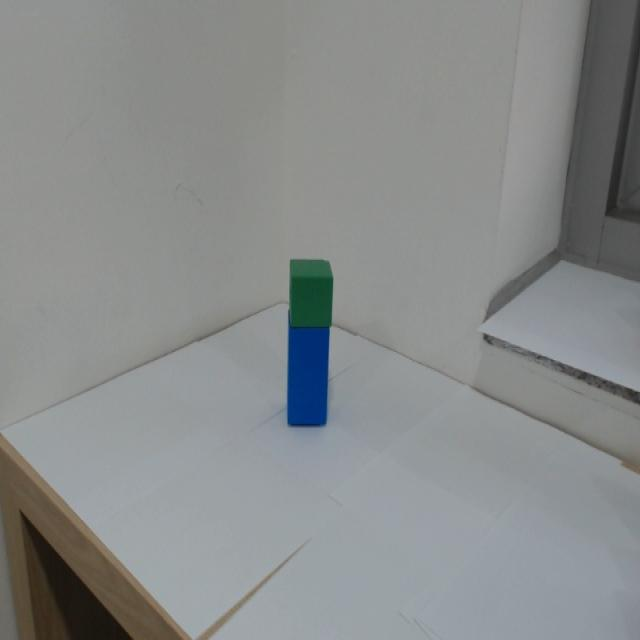cube: (284, 253, 345, 332)
